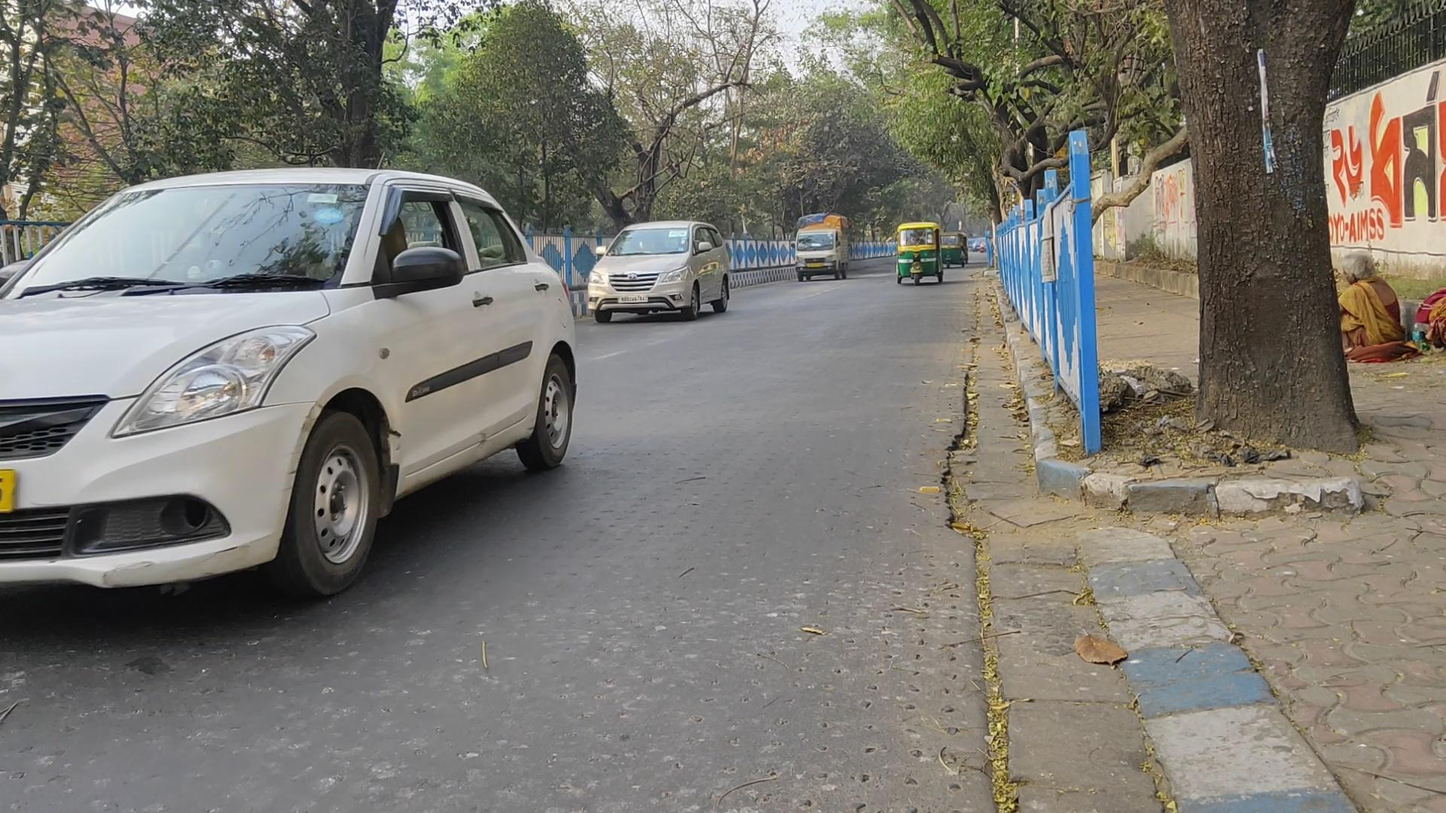Auto: (893, 221, 945, 288), (941, 230, 971, 271)
car: (2, 165, 578, 597), (584, 218, 731, 325)
van: (793, 212, 850, 285)
